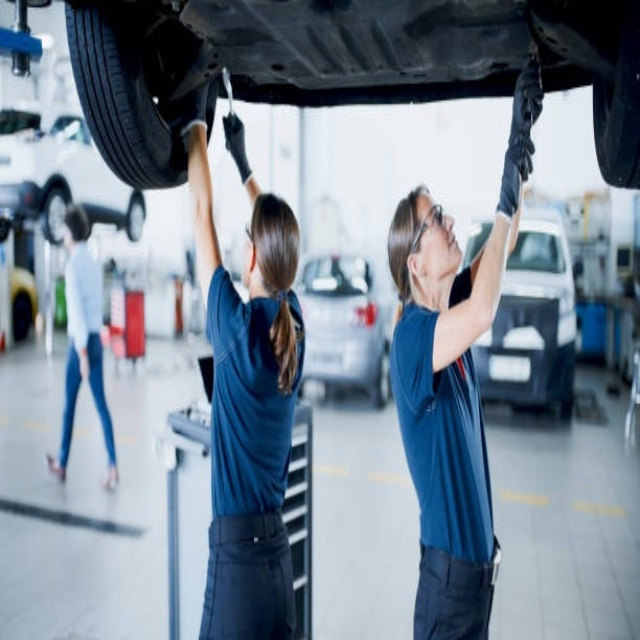Gafas: (407, 197, 444, 259), (242, 220, 258, 253)
Guantes: (173, 75, 213, 153), (511, 54, 542, 147), (496, 146, 528, 224), (222, 110, 253, 187)
Sin_mascara: (439, 218, 464, 272)
